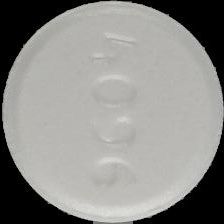0615-3541: (0, 0, 224, 224)
